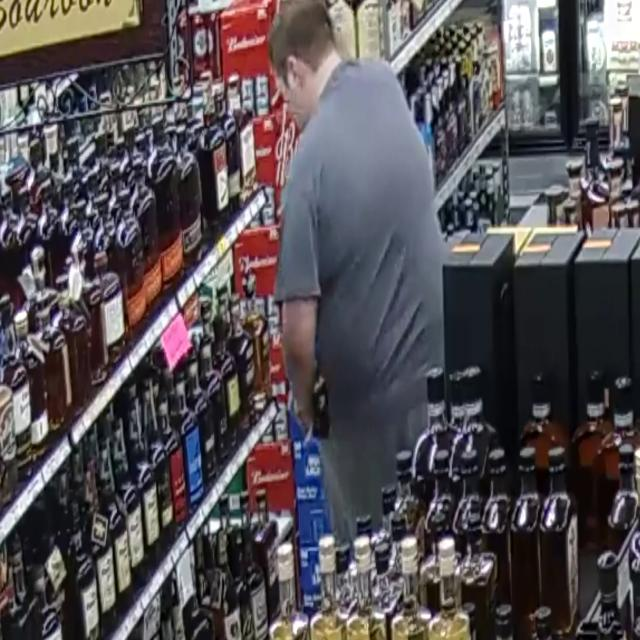Product: (304, 369, 342, 466)
shoplifting: (246, 0, 492, 587)
